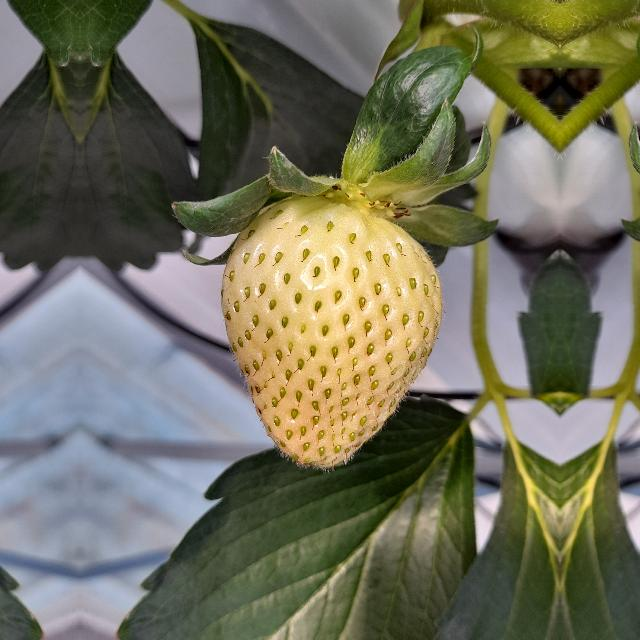Health_50: (218, 195, 446, 473)
